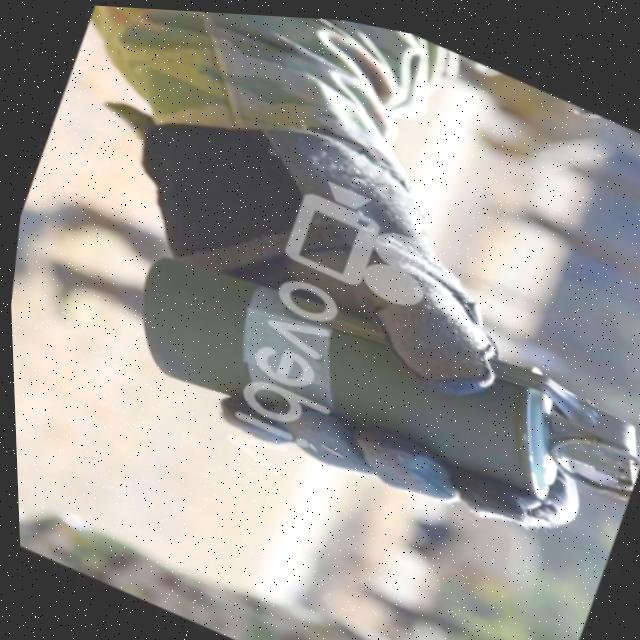grenade: (92, 203, 640, 566)
